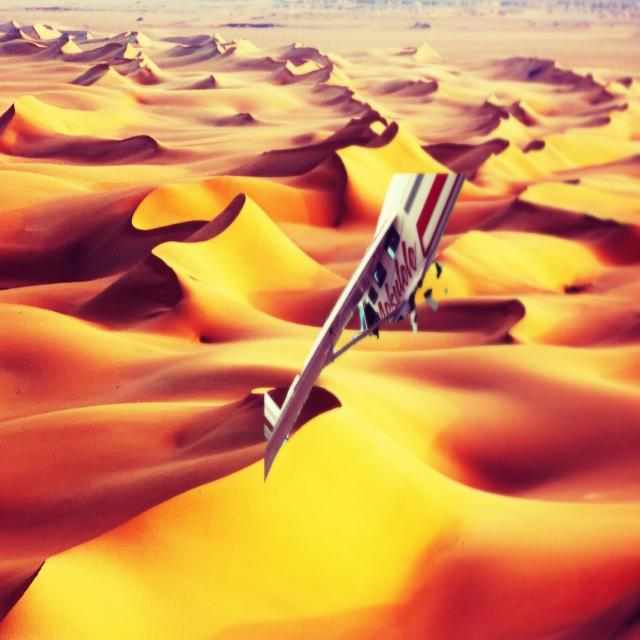airplane: (262, 169, 466, 481)
